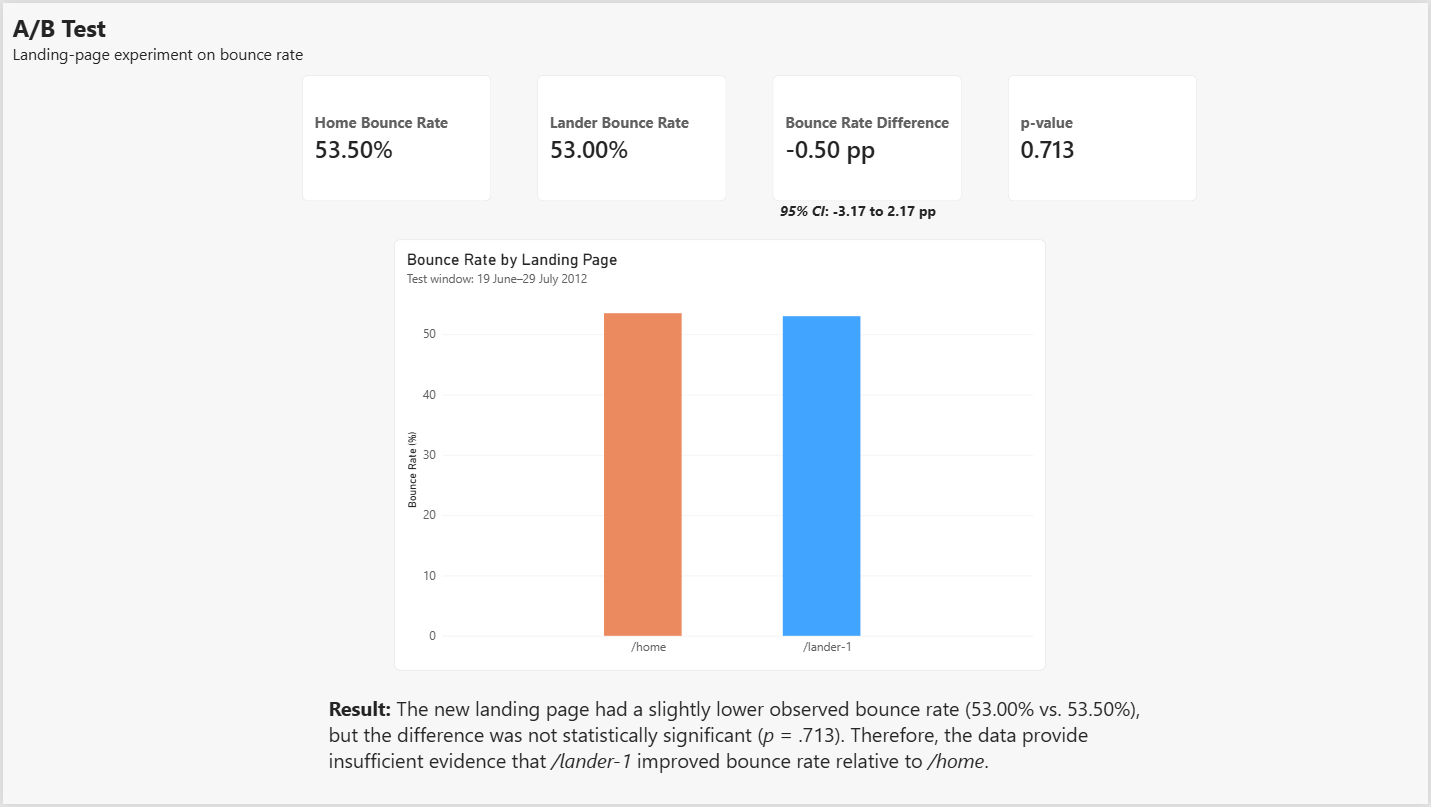

This screenshot's page, from the dashboard's own definition file:
{"tool":"powerbi","page":{"name":"A/B Test","canvas":[1920,1080],"ordinal":2},"visuals":[{"type":"cardVisual","fields":{"Data":["analytics ab_test.AB Test P Value"]},"box":[1353.9,97.8,255,170],"z":0},{"type":"cardVisual","fields":{"Data":["analytics ab_test.Bounce Rate Difference Display"]},"box":[1036.9,97.8,255,170],"z":1000},{"type":"cardVisual","fields":{"Data":["analytics ab_test.Lander Bounce Rate Display"]},"box":[719.9,97.8,255,170],"z":2000},{"type":"clusteredColumnChart","title":"Bounce Rate by Landing Page","fields":{"Category":["analytics ab_test.landing_page"],"Y":["Sum(analytics ab_test.bounce_rate)"]},"box":[526.6,318.8,878.1,581.2],"z":3000},{"type":"textbox","box":[439.1,932.8,1118.8,146.9],"z":4000},{"type":"textbox","box":[12.5,10.9,503.1,170.3],"z":5000},{"type":"cardVisual","fields":{"Data":["analytics ab_test.Home Bounce Rate Display"]},"box":[402.9,97.2,255,170],"z":6000},{"type":"textbox","box":[1047.1,267.1,274.3,37.1],"z":6001}]}

Visuals, with their boxes in screenshot pixels (x1, y1, x2, y2), scaled from the page's 1920x1080 canvas onto the 1431x807 screenshot:
cardVisual - analytics ab_test.AB Test P Value: (1009,73,1199,200)
cardVisual - analytics ab_test.Bounce Rate Difference Display: (773,73,963,200)
cardVisual - analytics ab_test.Lander Bounce Rate Display: (537,73,727,200)
"Bounce Rate by Landing Page" clusteredColumnChart: (392,238,1047,672)
textbox: (327,697,1161,806)
textbox: (9,8,384,135)
cardVisual - analytics ab_test.Home Bounce Rate Display: (300,73,490,200)
textbox: (780,200,985,227)
